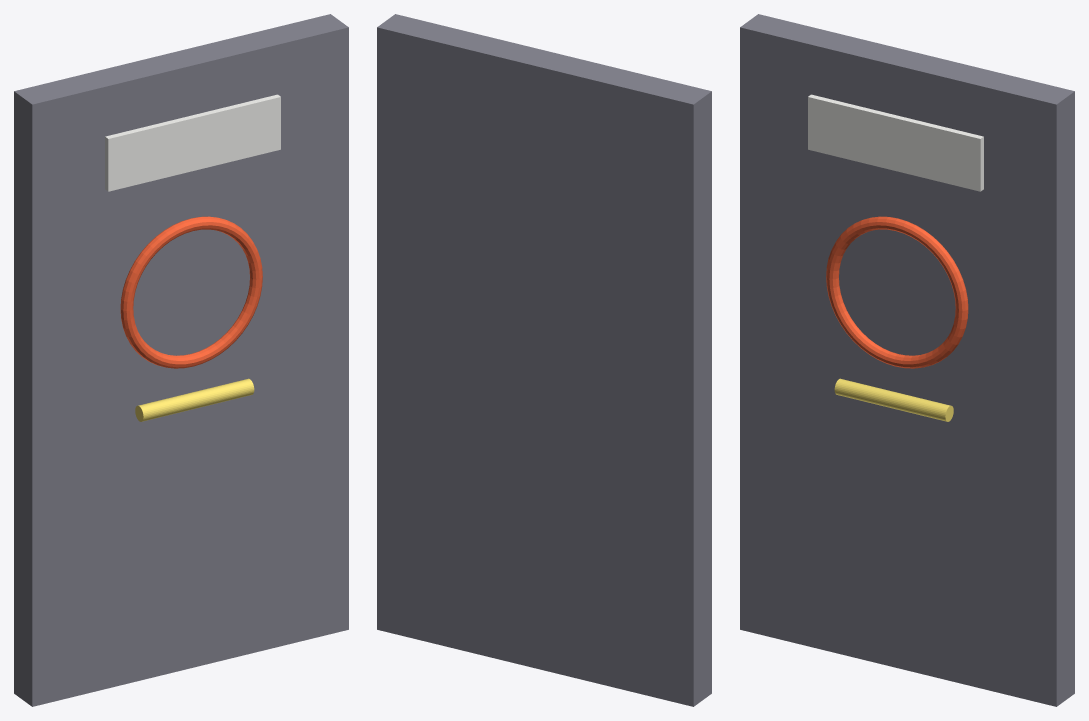
The model's file is thrown_door.glb.
3 renders of one model, left to right at view 1: azimuth 30°, elevation 25°; view 2: azimuth 150°, elevation 25°; view 3: azimuth 330°, elevation 25°, orthographic.
Parts seen in each view (by area): view 1: Cube.002, Cube.003, Torus, Cylinder, Cylinder.001; view 2: Cube.002; view 3: Cube.002, Cube.003, Torus, Cylinder.001, Cylinder.
Boxes of the visible parts, x1,y1,x2,y2 form: Cube.002: [14, 14, 348, 706]; Cube.003: [105, 94, 280, 191]; Torus: [120, 216, 262, 368]; Cylinder: [135, 391, 207, 421]; Cylinder.001: [184, 378, 254, 409]; Cube.002: [377, 14, 711, 706]; Cube.002: [740, 14, 1074, 706]; Cube.003: [808, 94, 983, 191]; Torus: [826, 216, 968, 368]; Cylinder.001: [881, 391, 953, 421]; Cylinder: [834, 378, 904, 409].
Size of the model in its own units: 2.2 by 4 by 0.32.
